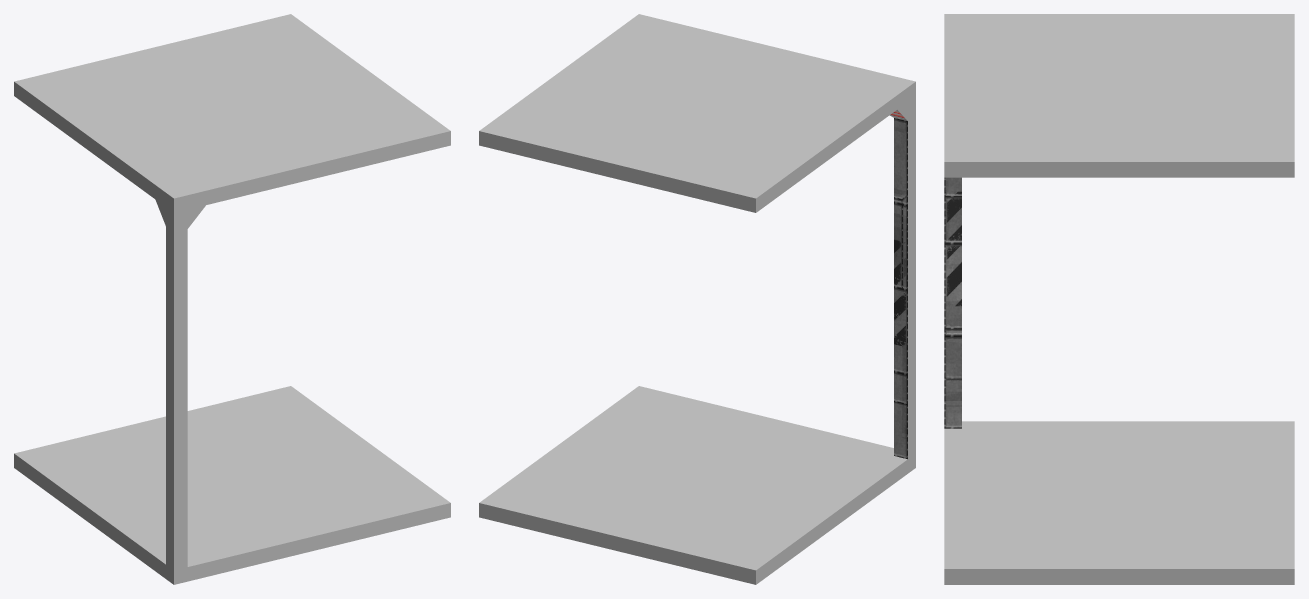
The picture shows the model from 3 angles, left to right: view 1: azimuth 30°, elevation 25°; view 2: azimuth 150°, elevation 25°; view 3: azimuth 270°, elevation 25°; orthographic projection. The views are drawn at different scales.
Visible parts, largest first — view 1: Body.010; view 2: Body.010; view 3: Body.010.
Part boxes in pixels (x1=…): Body.010: x1=14, y1=14, x2=450, y2=584; Body.010: x1=479, y1=14, x2=915, y2=584; Body.010: x1=944, y1=14, x2=1294, y2=584.
Bounding box in the file's own units: 1.5 × 2 × 1.5.
3 materials, 2 textured.
